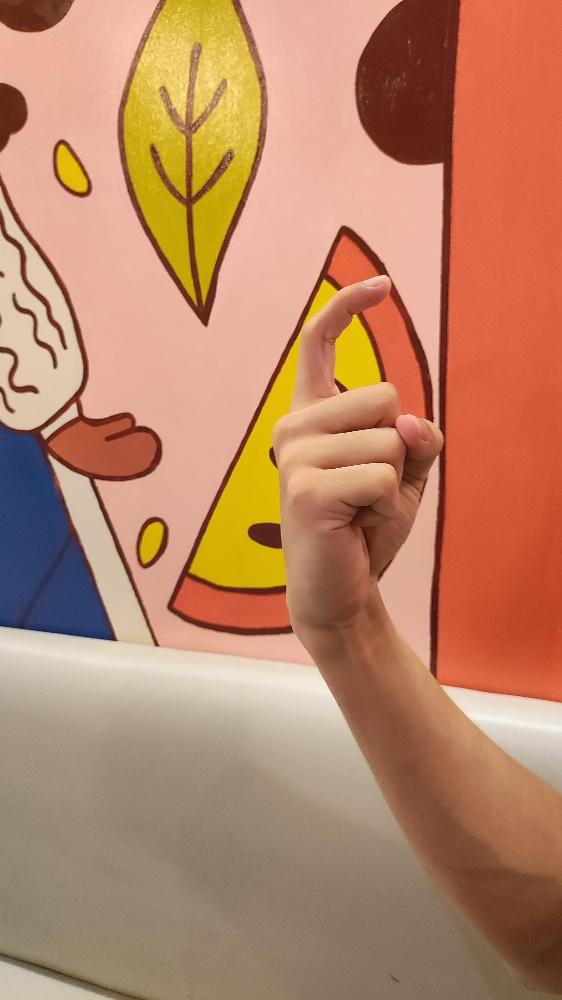x: (271, 273, 445, 627)
